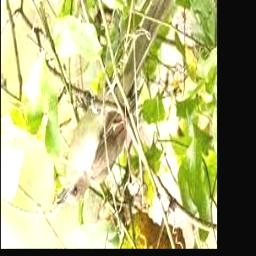Cuckoo: (57, 0, 177, 207)
